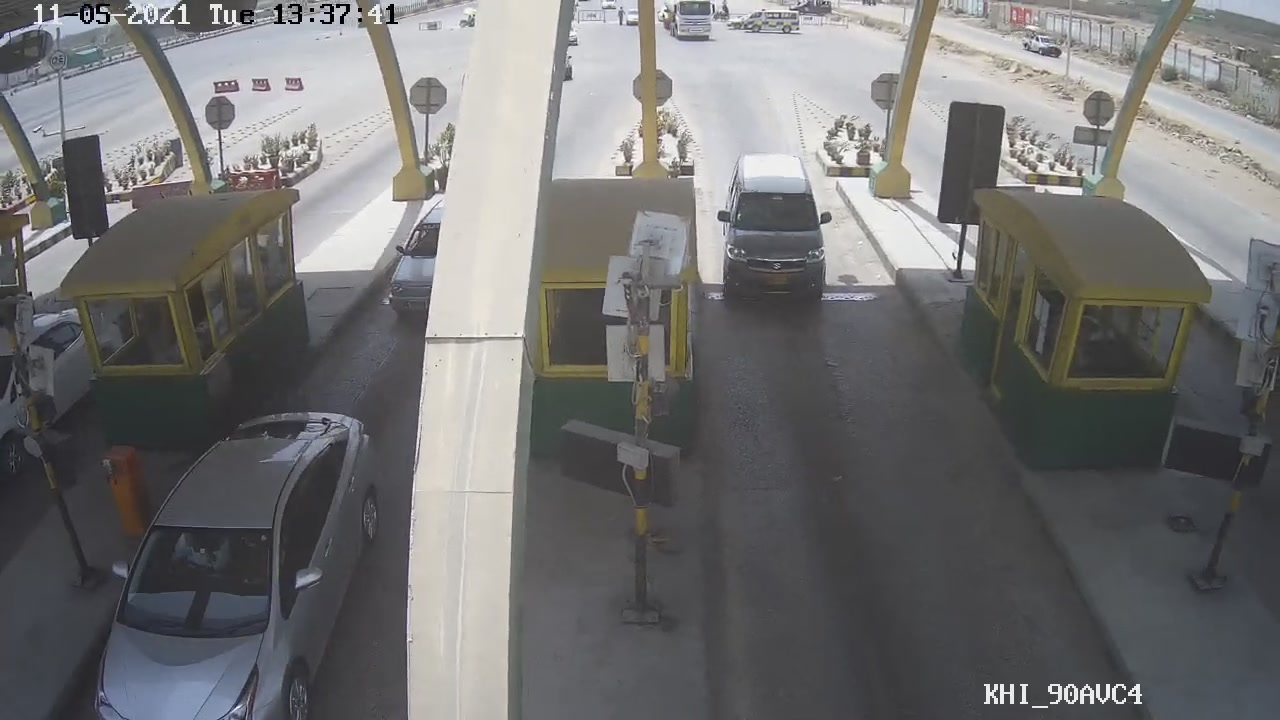F1: (715, 149, 838, 315)
